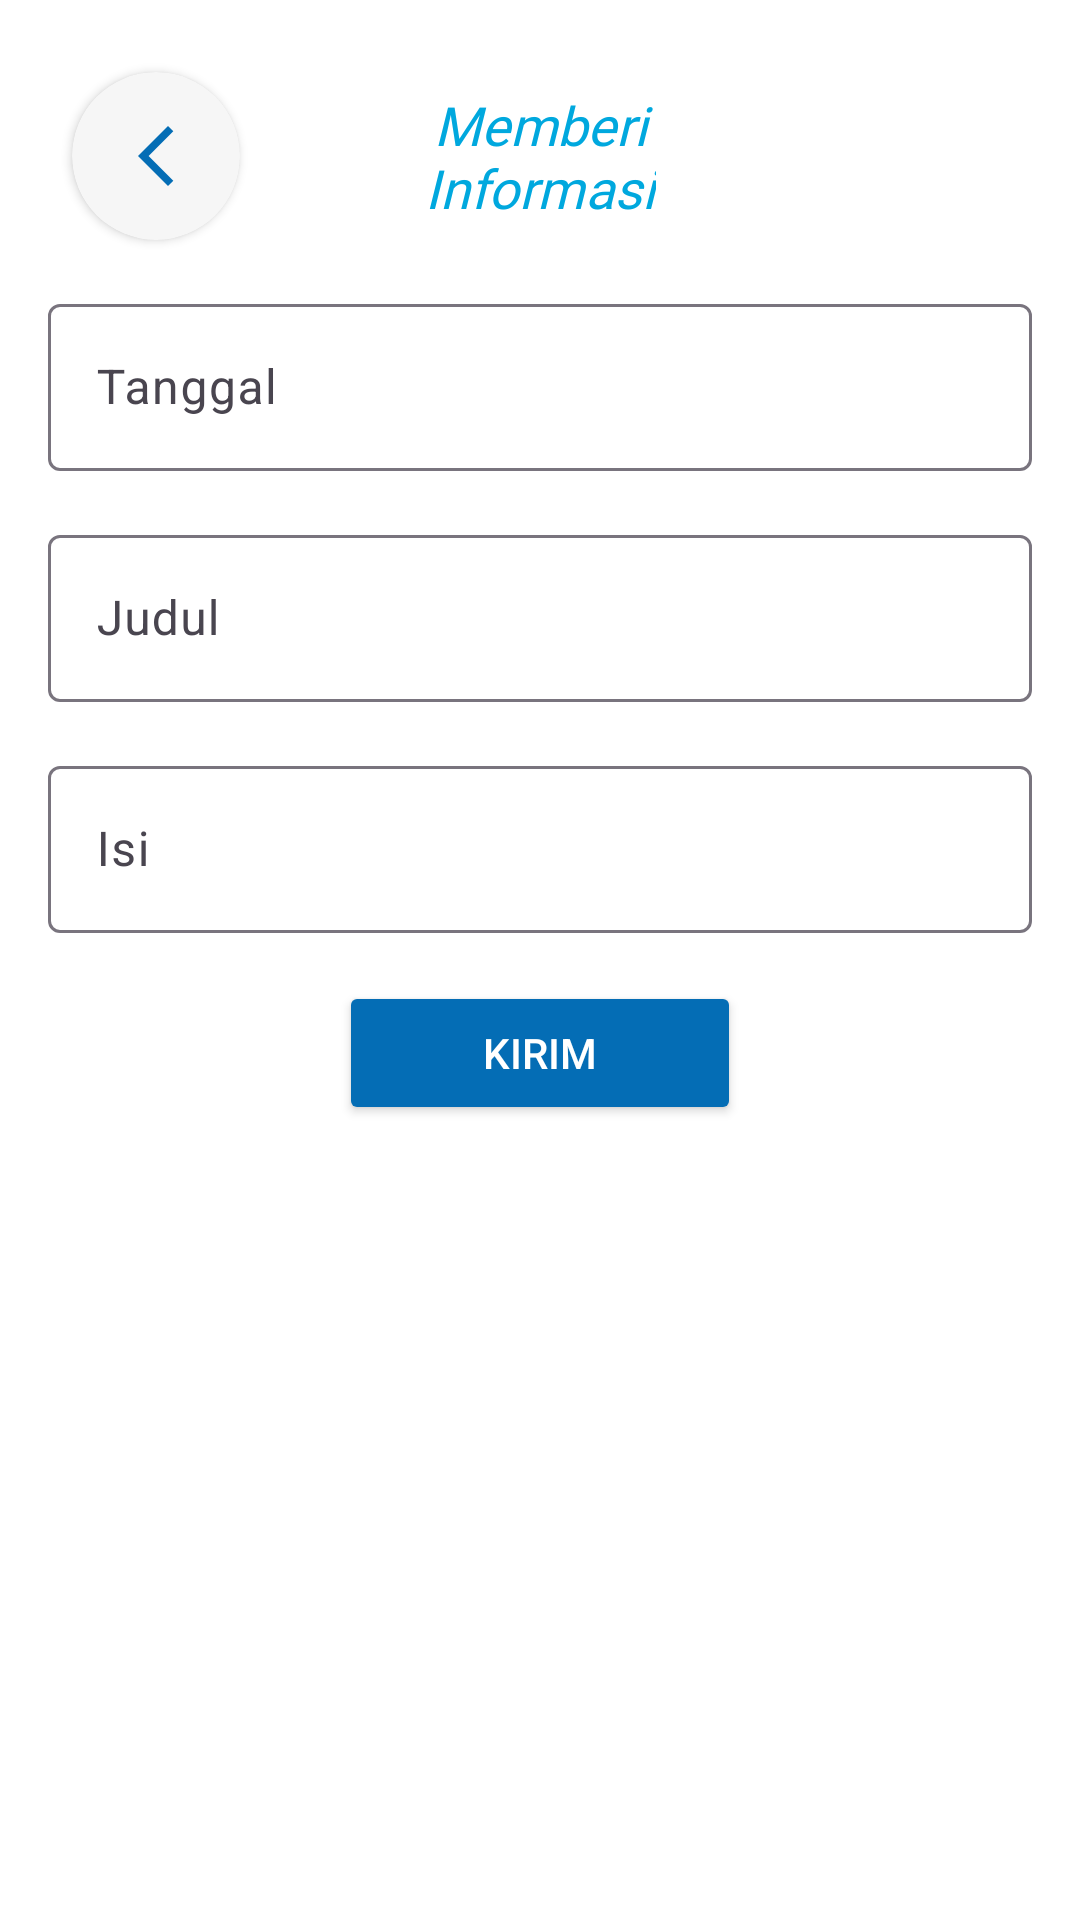

Icon click points for this 1080*1920 phone screenshot, format (x=x, y=y):
back: (x=156, y=156)
